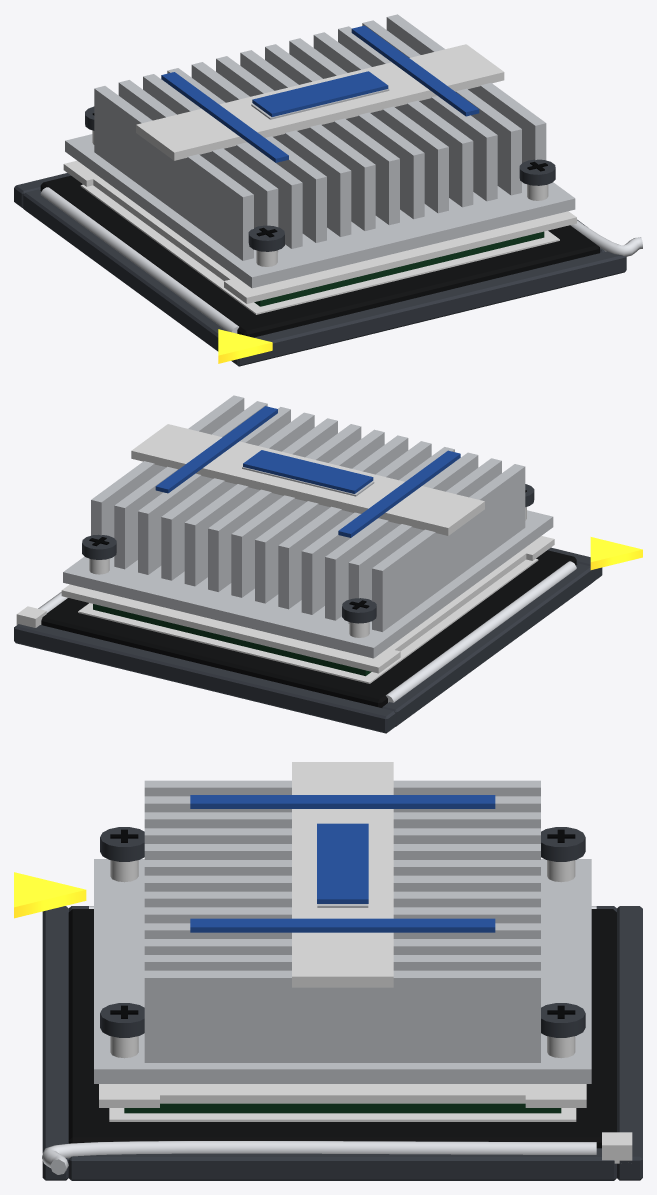
File: hwm_cpu_xeon_4c.glb
3 views of the same model, one above another, from view 1: azimuth 30°, elevation 25°; view 2: azimuth 150°, elevation 25°; view 3: azimuth 270°, elevation 25° (orthographic). The views are drawn at different scales.
Visible parts, largest first — view 1: Cooler, Socket, Frame, CPU, Screw_3, Screw_1, Lever; view 2: Cooler, Socket, Frame, CPU, Screw_2, Screw_0; view 3: Cooler, Socket, Frame, Lever, CPU, Screw_1, Screw_3, Screw_0, Screw_2.
Part boxes in pixels (left/top/right/bottom): Cooler: left=65, top=14, right=575, bottom=288; Socket: left=14, top=173, right=626, bottom=366; Frame: left=63, top=160, right=576, bottom=303; CPU: left=254, top=231, right=544, bottom=306; Screw_3: left=519, top=159, right=555, bottom=200; Screw_1: left=248, top=225, right=284, bottom=266; Lever: left=570, top=220, right=642, bottom=256; Cooler: left=63, top=395, right=553, bottom=658; Socket: left=14, top=537, right=642, bottom=733; Frame: left=61, top=536, right=554, bottom=673; CPU: left=93, top=604, right=371, bottom=676; Screw_2: left=82, top=534, right=116, bottom=574; Screw_0: left=342, top=598, right=376, bottom=637; Cooler: left=94, top=762, right=591, bottom=1083; Socket: left=14, top=872, right=642, bottom=1180; Frame: left=99, top=1084, right=586, bottom=1107; Lever: left=42, top=1141, right=596, bottom=1174; CPU: left=124, top=1103, right=561, bottom=1113; Screw_1: left=100, top=827, right=144, bottom=882; Screw_3: left=100, top=1003, right=144, bottom=1058; Screw_0: left=541, top=827, right=585, bottom=882; Screw_2: left=541, top=1003, right=585, bottom=1058.
Bounding box in the file's own units: 0.1338 × 0.0422 × 0.1239.
